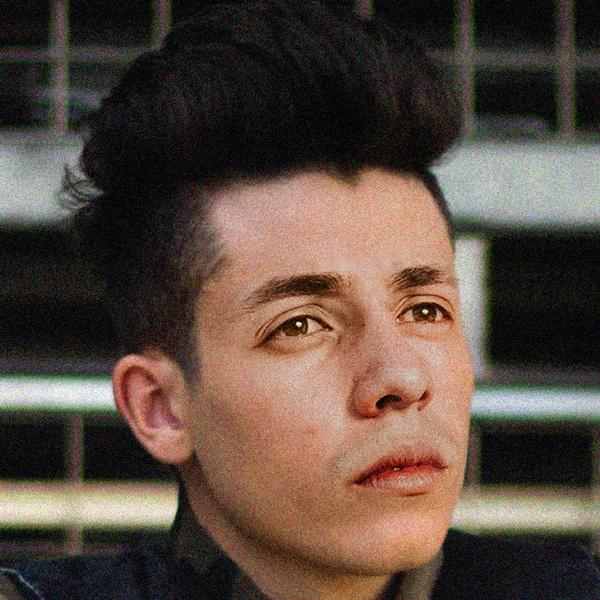Eyes: (238, 301, 345, 356), (390, 288, 460, 336)
